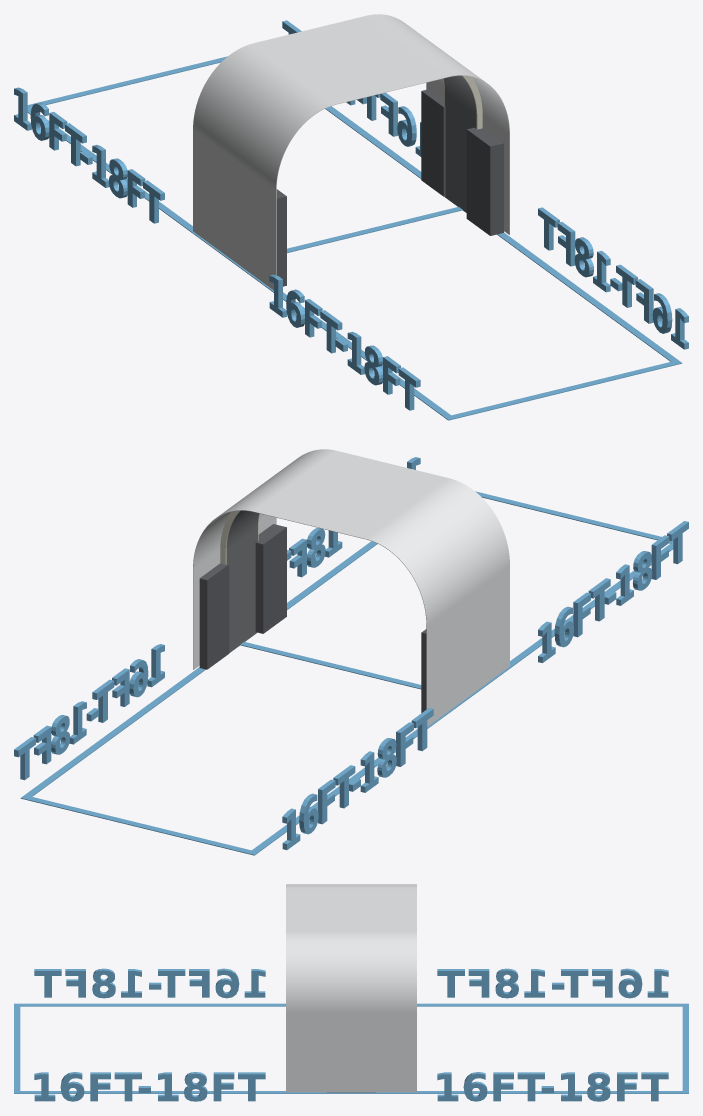
File: colibri-xl-cover.glb
The picture shows the model from 3 angles, top to bottom: view 1: azimuth 30°, elevation 25°; view 2: azimuth 150°, elevation 25°; view 3: azimuth 270°, elevation 25°; orthographic projection. The views are drawn at different scales.
Visible parts, largest first — view 1: sun_cover, label_near_end, label_near_end_other_side, label_far_end_other_side, wing_1, arch_shell, wing_3, lane_right, label_far_end, lane_left, lane_near_end, lane_far_end (+2 smaller); view 2: sun_cover, label_far_end_other_side, label_near_end_other_side, label_far_end, arch_shell, wing_1, wing_3, lane_right, label_near_end, lane_left, lane_far_end, lane_near_end (+1 smaller); view 3: sun_cover, label_near_end, label_far_end, label_far_end_other_side, label_near_end_other_side, lane_left, lane_right, lane_near_end, lane_far_end.
Boxes of the visible parts, x1=… form: sun_cover: x1=193, y1=14, x2=509, y2=290; label_near_end: x1=538, y1=207, x2=688, y2=349; label_near_end_other_side: x1=269, y1=274, x2=420, y2=410; label_far_end_other_side: x1=14, y1=87, x2=164, y2=223; wing_1: x1=466, y1=127, x2=503, y2=235; arch_shell: x1=443, y1=75, x2=476, y2=212; wing_3: x1=421, y1=89, x2=445, y2=196; lane_right: x1=325, y1=106, x2=682, y2=365; label_far_end: x1=282, y1=20, x2=421, y2=156; lane_left: x1=27, y1=105, x2=455, y2=420; lane_near_end: x1=444, y1=360, x2=681, y2=420; lane_far_end: x1=28, y1=56, x2=227, y2=108; sun_cover: x1=193, y1=449, x2=509, y2=726; label_far_end_other_side: x1=282, y1=708, x2=433, y2=849; label_near_end_other_side: x1=538, y1=521, x2=688, y2=662; label_far_end: x1=14, y1=644, x2=164, y2=780; arch_shell: x1=226, y1=510, x2=259, y2=652; wing_1: x1=255, y1=524, x2=286, y2=633; wing_3: x1=199, y1=563, x2=229, y2=669; lane_right: x1=20, y1=541, x2=377, y2=800; label_near_end: x1=287, y1=457, x2=420, y2=577; lane_left: x1=247, y1=542, x2=673, y2=855; lane_far_end: x1=21, y1=796, x2=258, y2=855; lane_near_end: x1=475, y1=491, x2=673, y2=543; sun_cover: x1=286, y1=884, x2=416, y2=1092; label_near_end: x1=34, y1=1072, x2=265, y2=1101; label_far_end: x1=437, y1=1072, x2=668, y2=1101; label_far_end_other_side: x1=437, y1=968, x2=668, y2=998; label_near_end_other_side: x1=34, y1=968, x2=265, y2=998; lane_left: x1=14, y1=1003, x2=688, y2=1006; lane_right: x1=14, y1=1091, x2=688, y2=1093; lane_near_end: x1=14, y1=1003, x2=20, y2=1093; lane_far_end: x1=682, y1=1004, x2=688, y2=1093.
Size of the model in its own units: 4.74 by 2.91 by 12.86.
